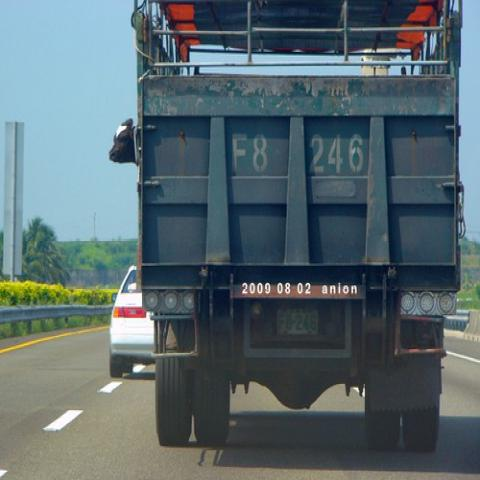car: (106, 262, 154, 377)
truck: (134, 0, 466, 454)
